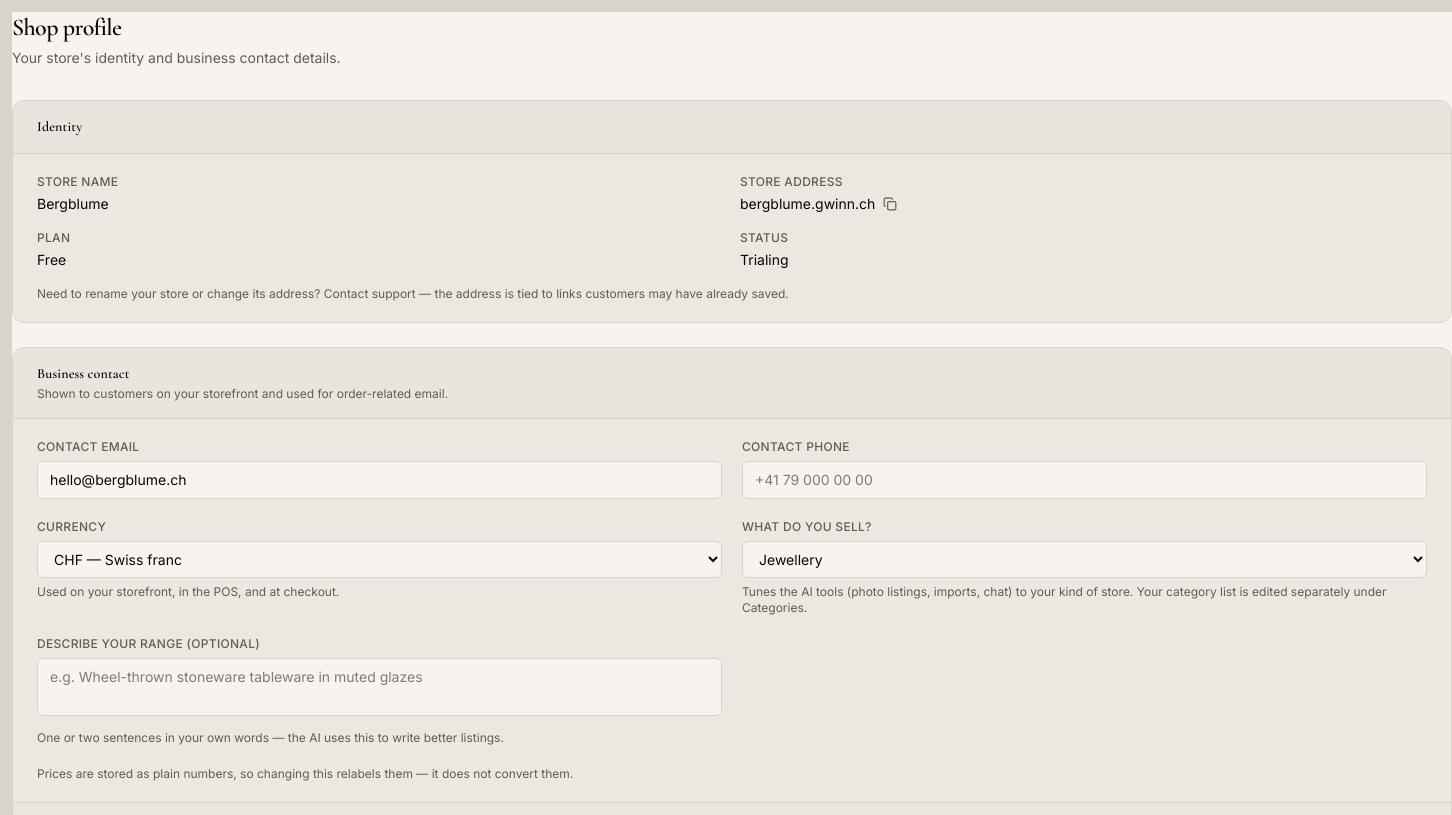
Test: ShopProfile — currency › tells the merchant to re-price only once they have actually changed it
Select "USD — US dollar" in the dropdown labelled "Currency" at (380, 560), box [37, 541, 722, 578]
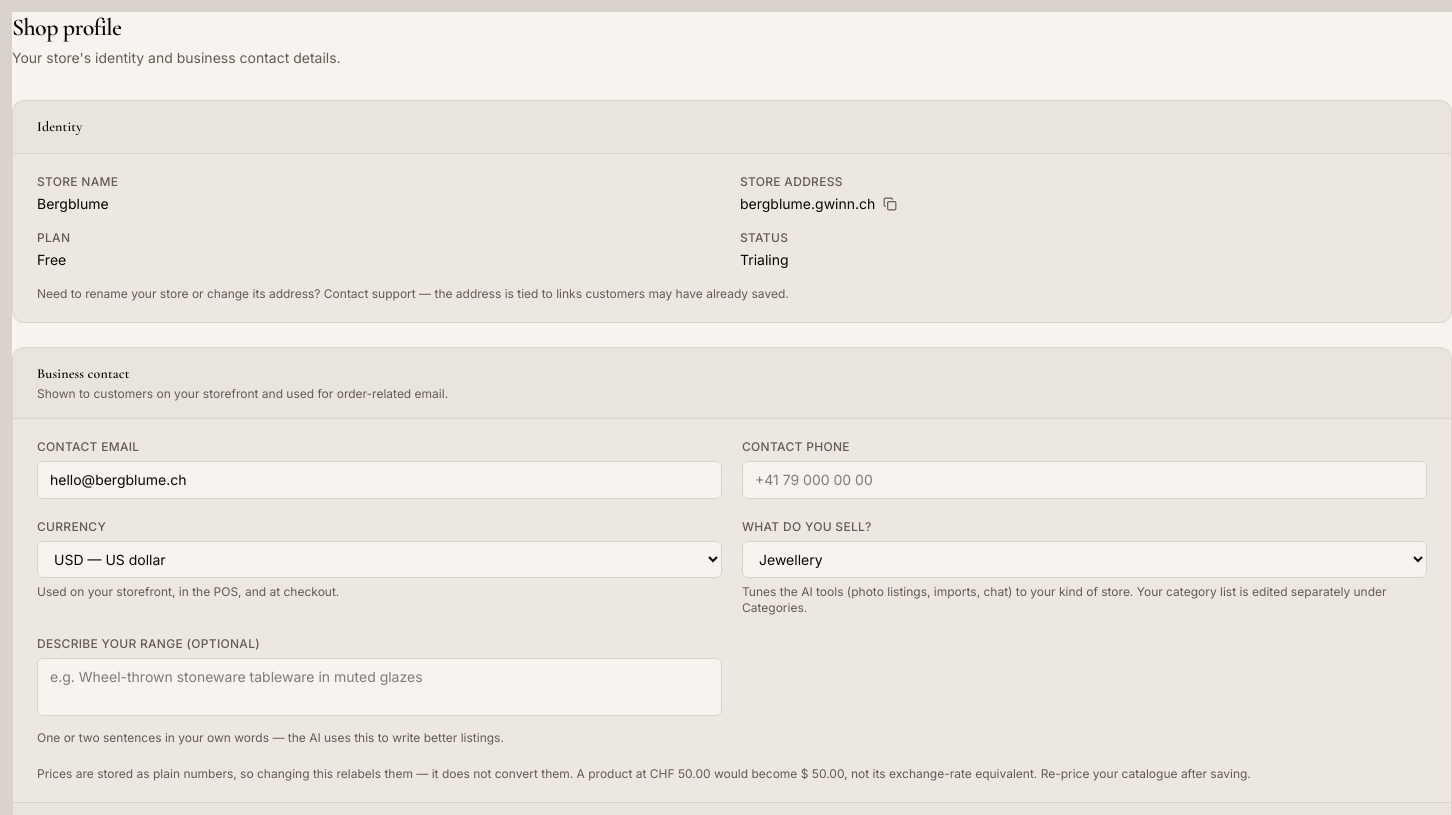
Check: the text "Re-price your catalogue" is shown, box [577, 766, 1251, 781]
